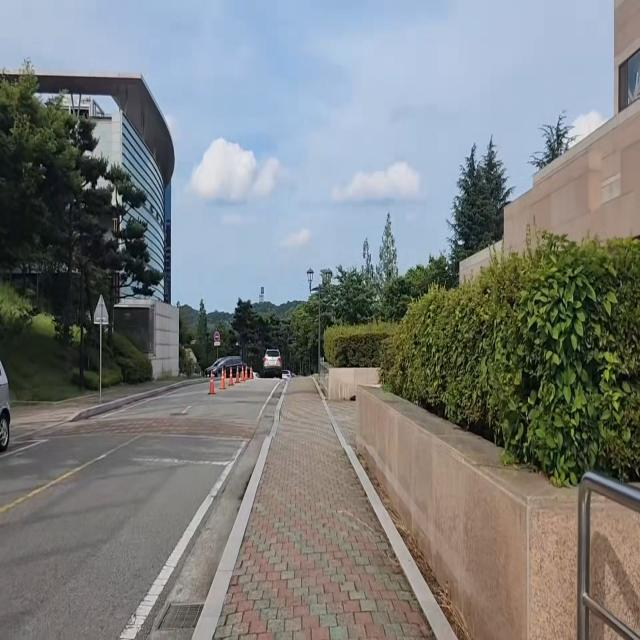obstacle: (261, 344, 287, 384)
road: (0, 379, 287, 640)
sidewalk: (204, 373, 469, 640)
